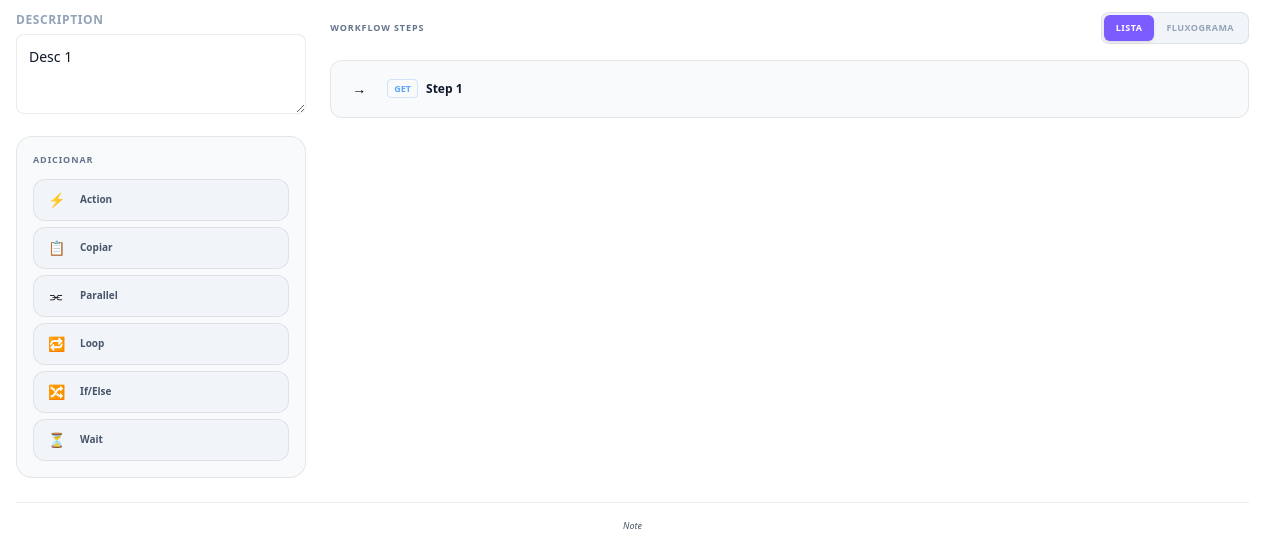
Test: WorkflowEditorView › should add a loop step
The width and height of the screenshot is (1266, 546).
Click the text "Loop": (92, 344) top-left (80, 336), bottom-right (104, 351)
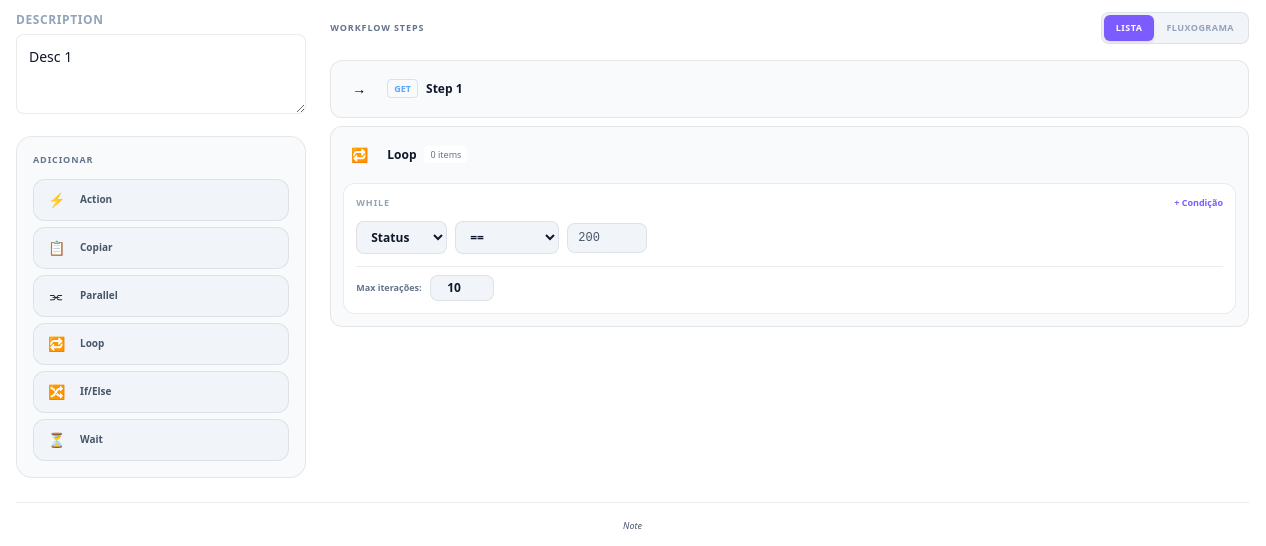
expect the text "While" is shown: met, box top-left (356, 196), bottom-right (390, 209)
